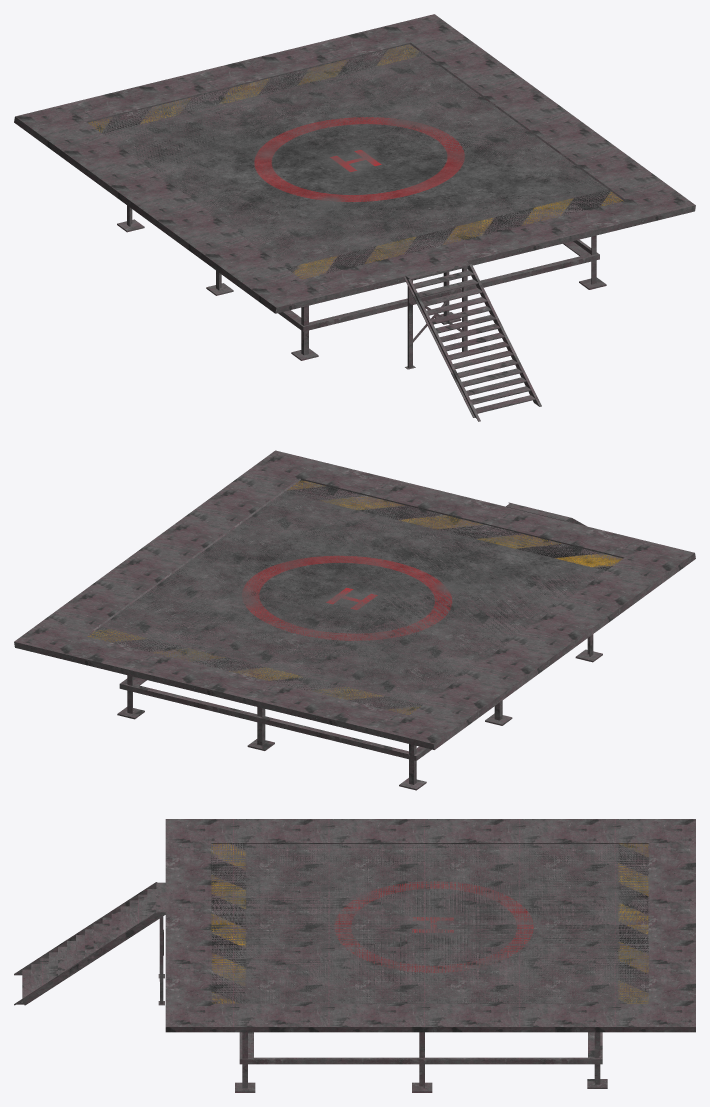
The model's file is helipad.fbx.
3 views of the same model, one above another, from view 1: azimuth 30°, elevation 25°; view 2: azimuth 150°, elevation 25°; view 3: azimuth 270°, elevation 25° (orthographic).
Parts seen in each view (by area): view 1: Helipad_Bootcamp; view 2: Helipad_Bootcamp; view 3: Helipad_Bootcamp.
Boxes of the visible parts, x1,y1,x2,y2 form: Helipad_Bootcamp: [14, 14, 695, 421]; Helipad_Bootcamp: [14, 450, 695, 790]; Helipad_Bootcamp: [14, 819, 695, 1092].
Size of the model in its own units: 10327 by 2166 by 14298.
